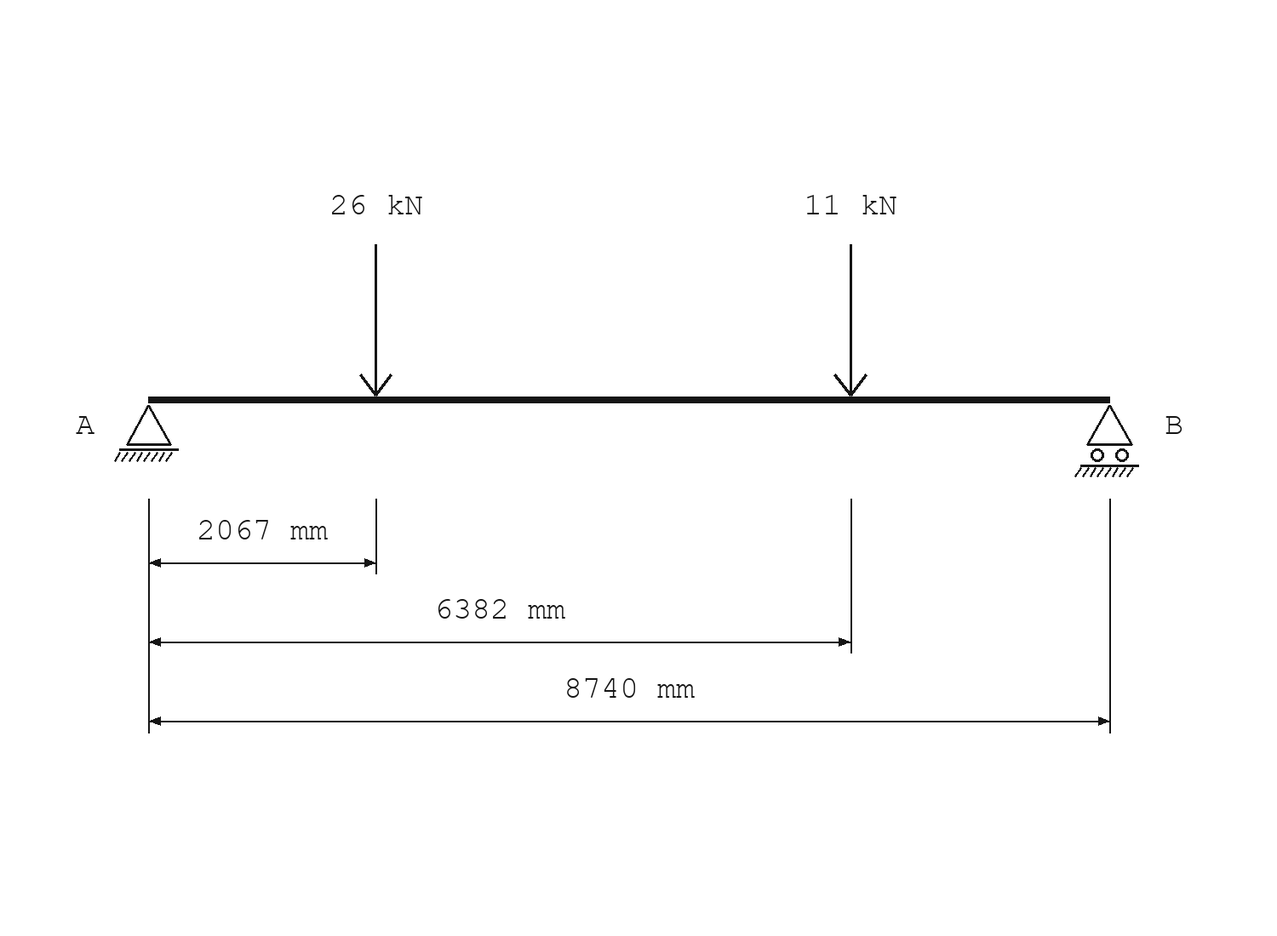pin_support: (114, 405, 179, 462)
point_load: (833, 244, 868, 397), (359, 244, 392, 397)
roller_support: (1074, 405, 1139, 477)
